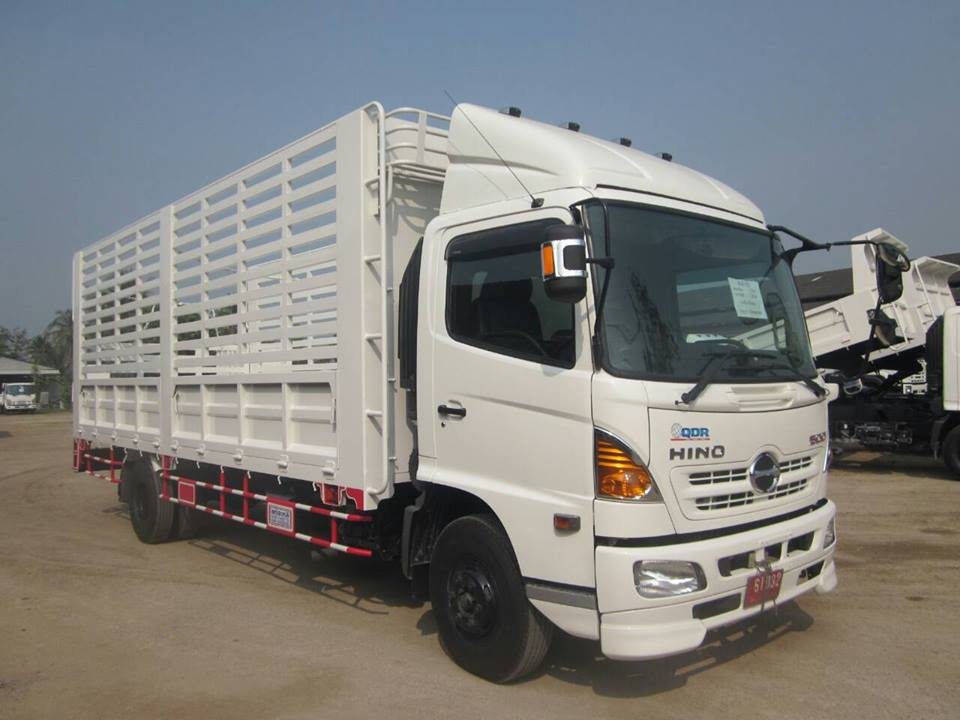truck: (361, 98, 840, 688)
